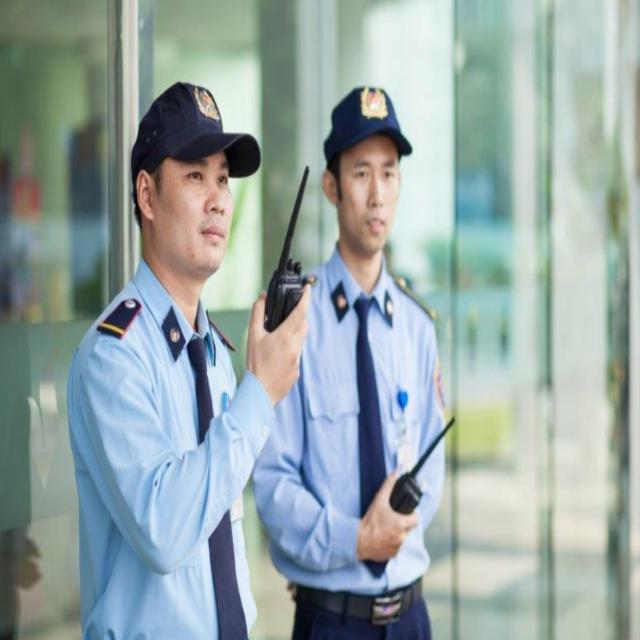Nonhelmet: (122, 66, 270, 294)
